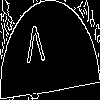V: (25, 24, 46, 73)
